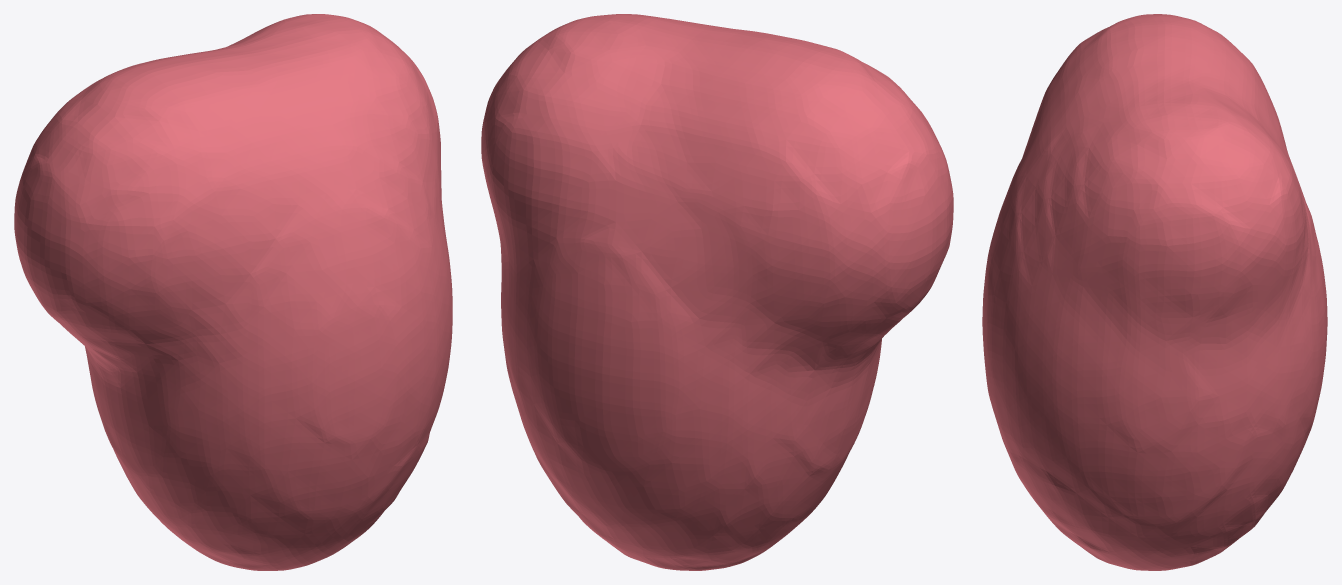
File: organ-heart.glb
3 renders of one model, left to right at view 1: azimuth 30°, elevation 25°; view 2: azimuth 150°, elevation 25°; view 3: azimuth 270°, elevation 25°, orthographic. The views are drawn at different scales.
Parts seen in each view (by area): view 1: geometry_0; view 2: geometry_0; view 3: geometry_0.
Part boxes in pixels (x1,y1,x2,y2): geometry_0: (14,14,452,570); geometry_0: (481,14,953,570); geometry_0: (982,14,1327,570).
Bounding box in the file's own units: 0.1811 × 0.2185 × 0.1413.
